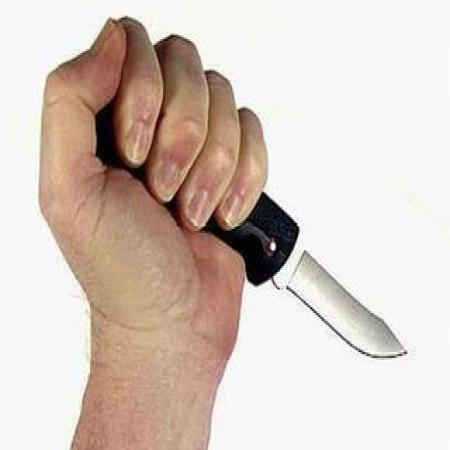long weapon: (158, 98, 420, 372)
